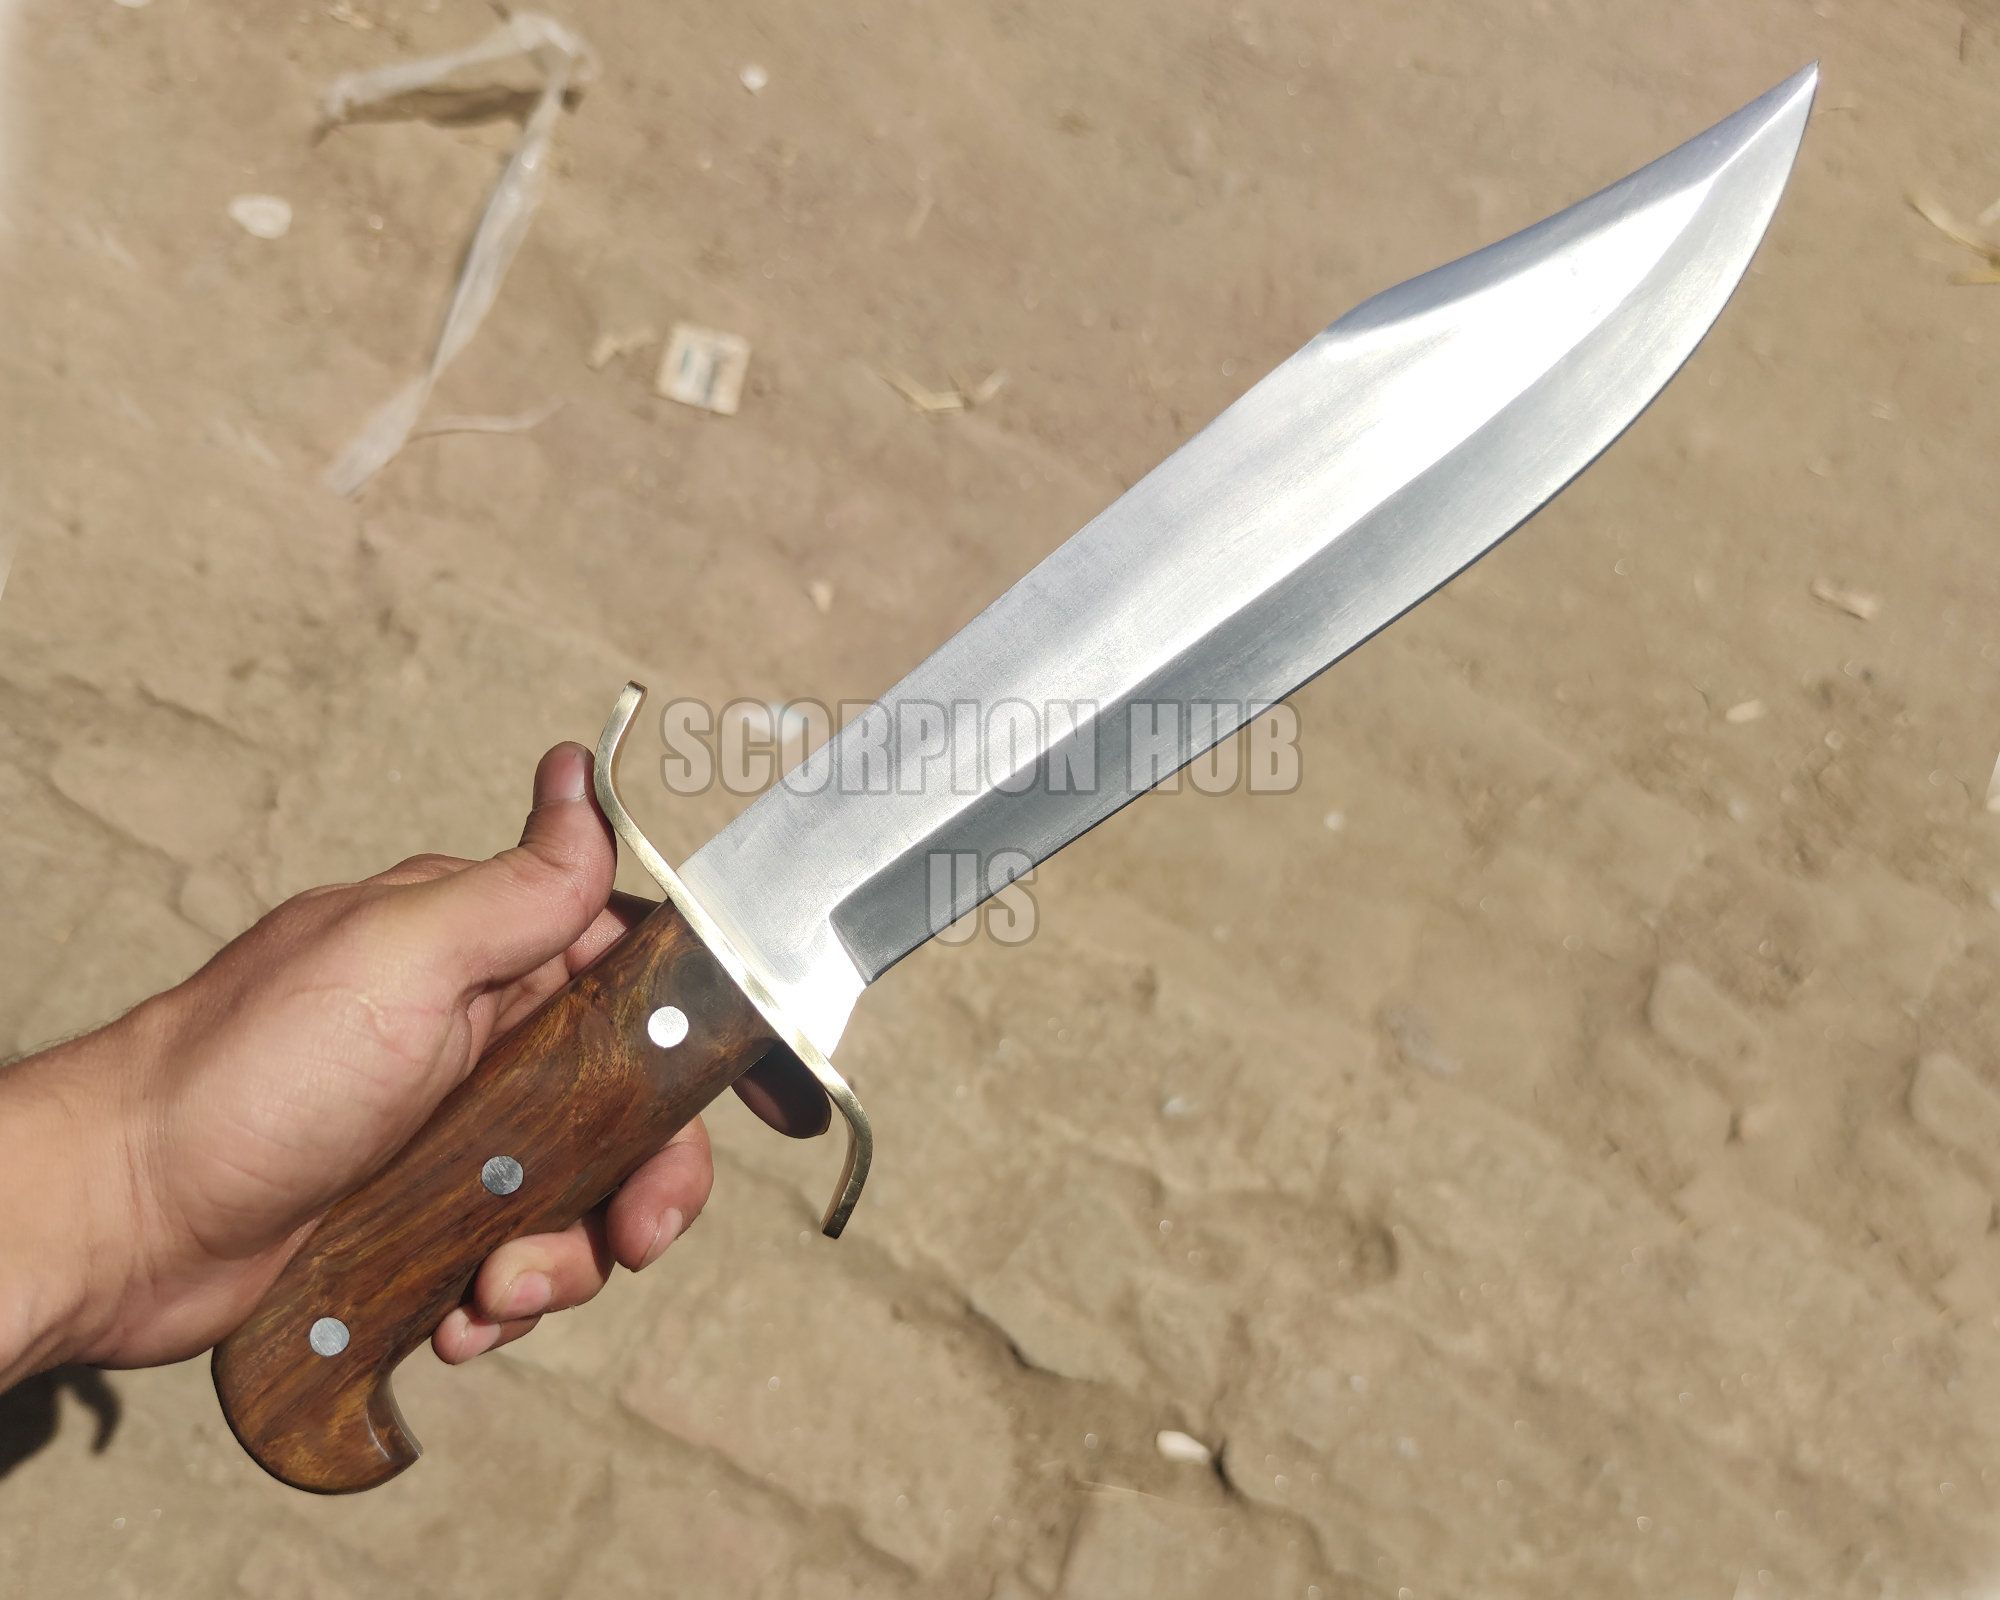knife: (181, 52, 1838, 1505)
